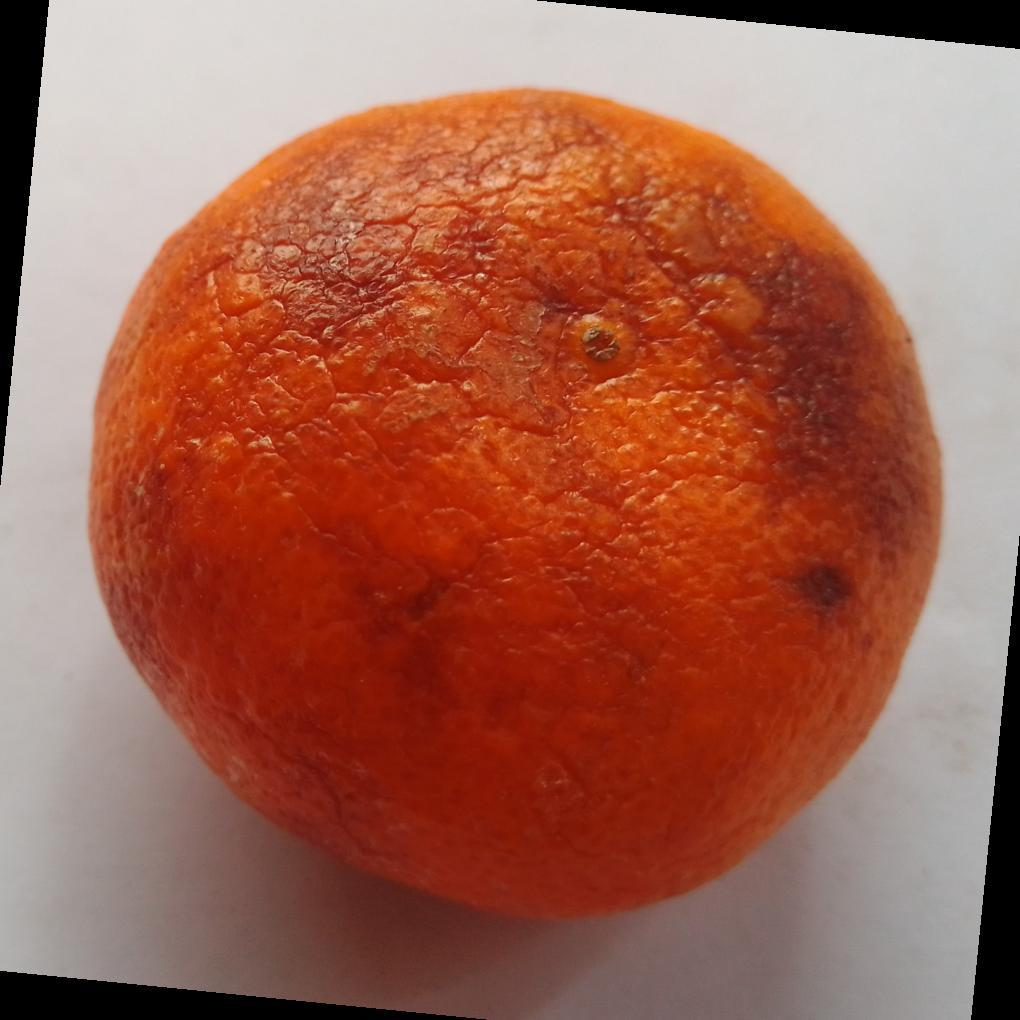FreshOrange: (85, 86, 946, 927)
